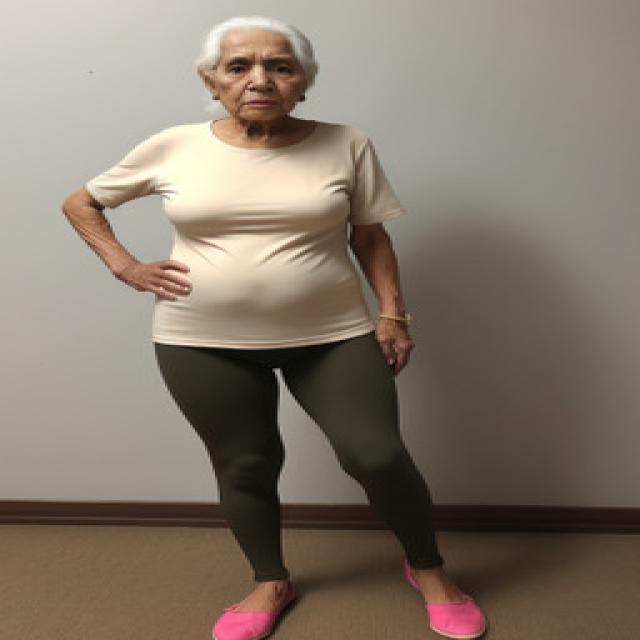Ai human 2: (52, 9, 530, 640)
